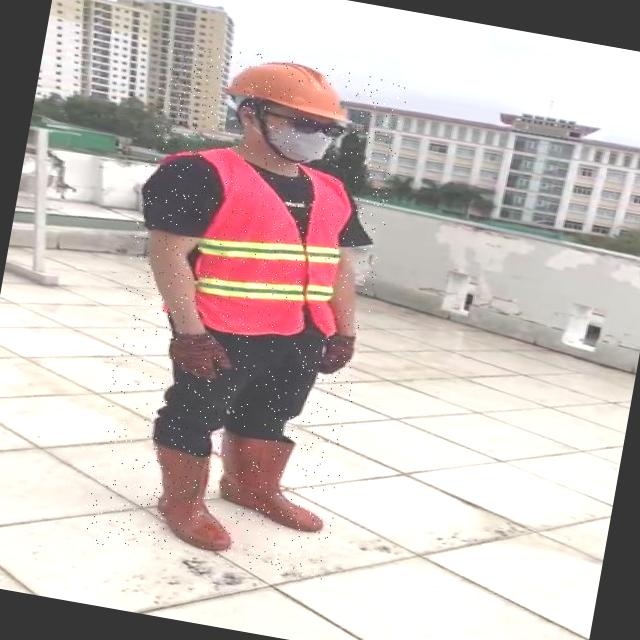boots: (212, 432, 336, 534), (139, 445, 241, 551)
gloves: (143, 290, 245, 405), (284, 303, 378, 396)
helmet: (222, 49, 366, 126)
vest: (160, 144, 364, 352)
